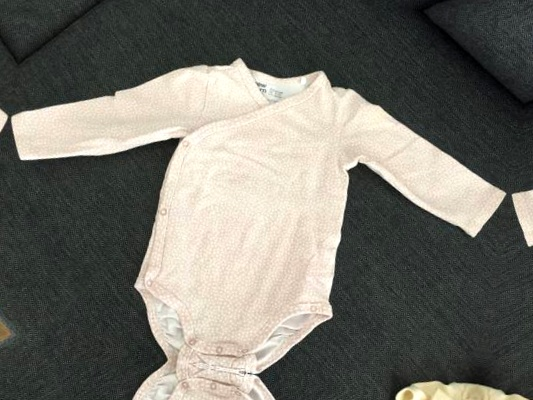Body: (0, 22, 517, 400), (0, 332, 466, 400), (481, 105, 533, 400), (0, 0, 18, 325)
